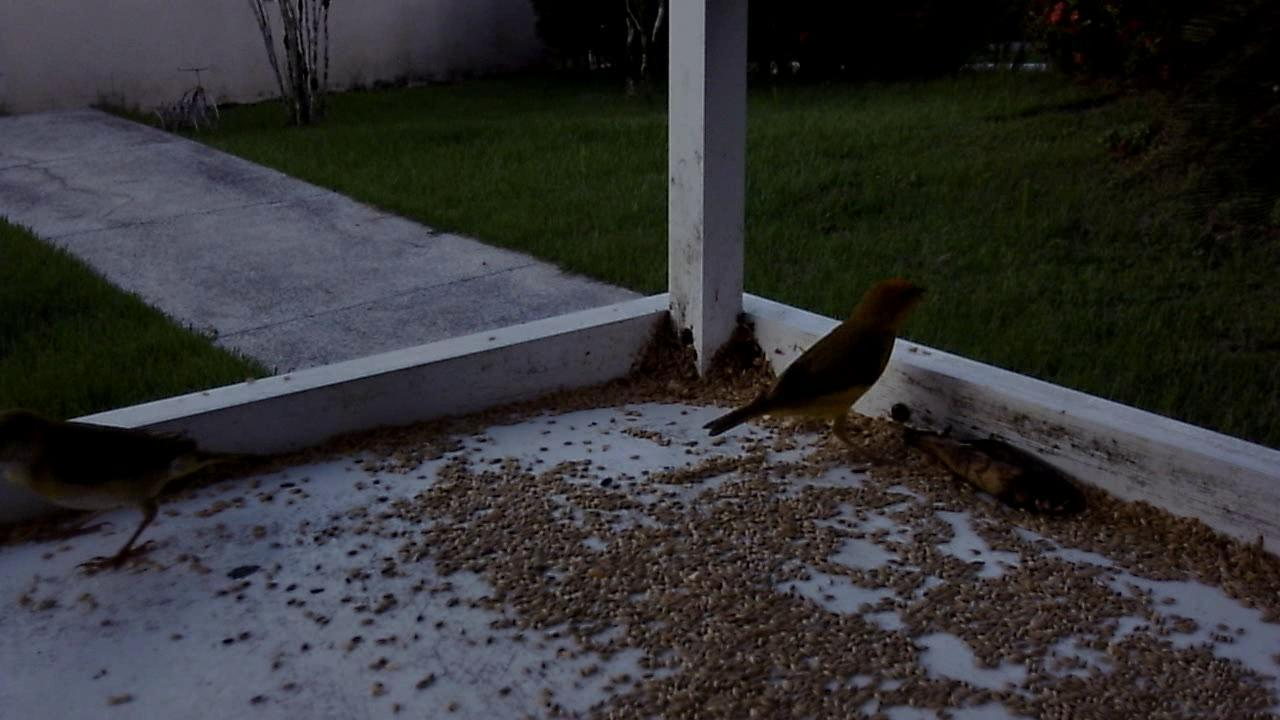canario_do_amazonas: (4, 374, 304, 584), (698, 274, 933, 469)
